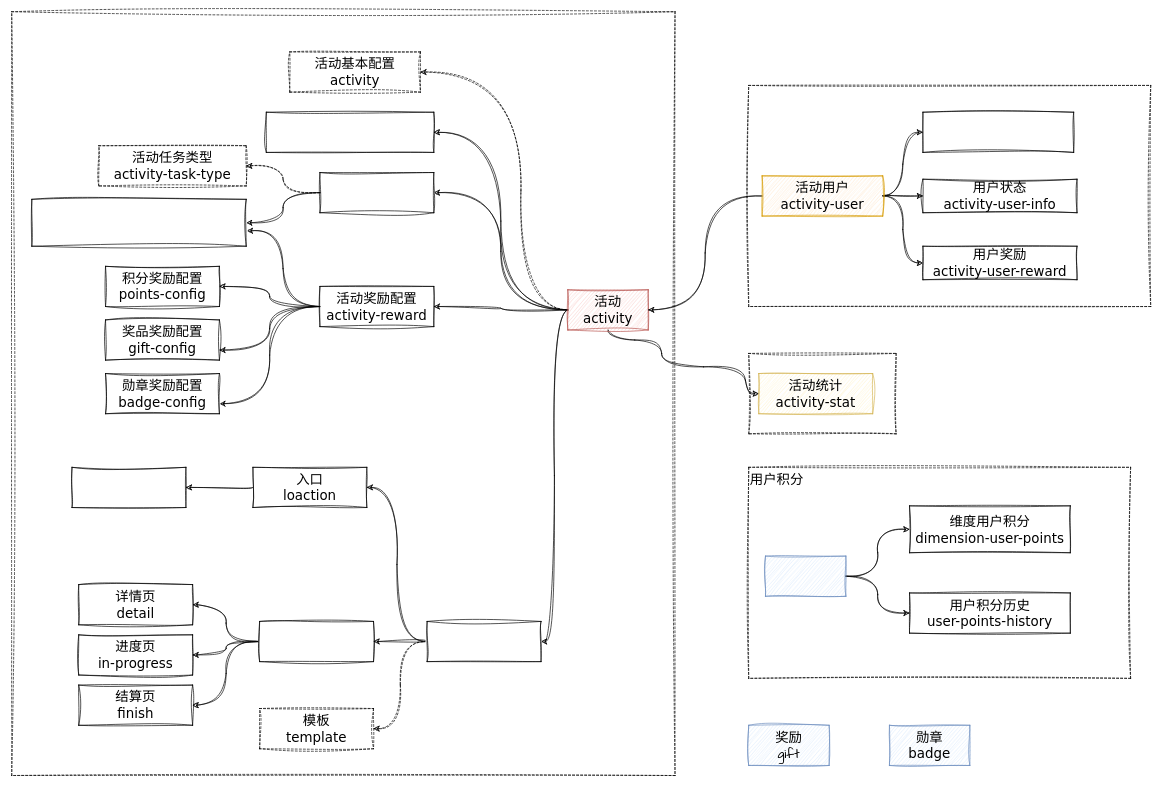
The diagram is 1162 pixels wide and 787 high, and some of its shapes have lost their labels. The shapes that lost their labels are listed below. From the top down, each one's centre as x and y in pixels, then its label:
pixel 350 132: 活动限制配置 activity-qualification
pixel 998 132: 用户任务 acitivty-user-task
pixel 376 192: 活动任务配置 activity-task
pixel 138 222: 活动任务配置(分类型） activity-task-config
pixel 128 487: 横幅 Banner
pixel 805 575: 用户积分 user-points
pixel 316 641: 页面 page
pixel 483 641: 活动ui配置 activity-ui
